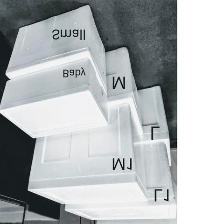foam_box: (15, 43, 148, 150), (24, 100, 151, 208), (32, 82, 173, 174), (0, 1, 114, 97), (62, 138, 176, 222), (0, 55, 110, 140)
